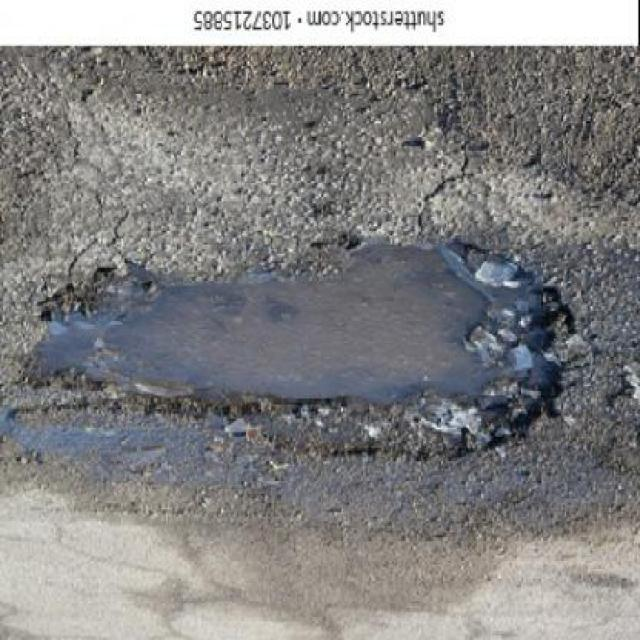Pothole: (22, 231, 577, 465)
